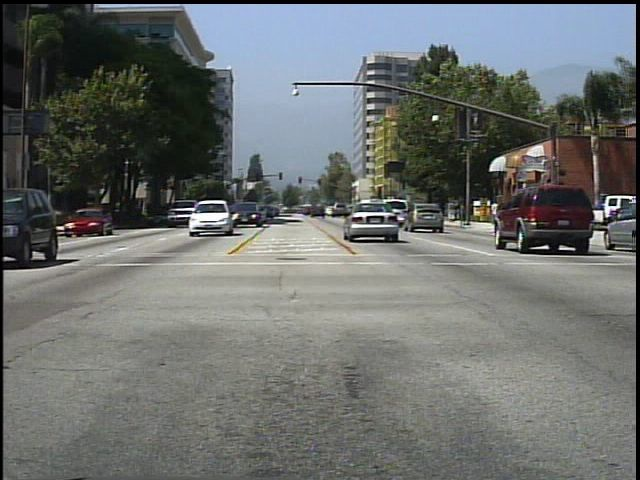person: (447, 197, 460, 226), (495, 197, 499, 226)
